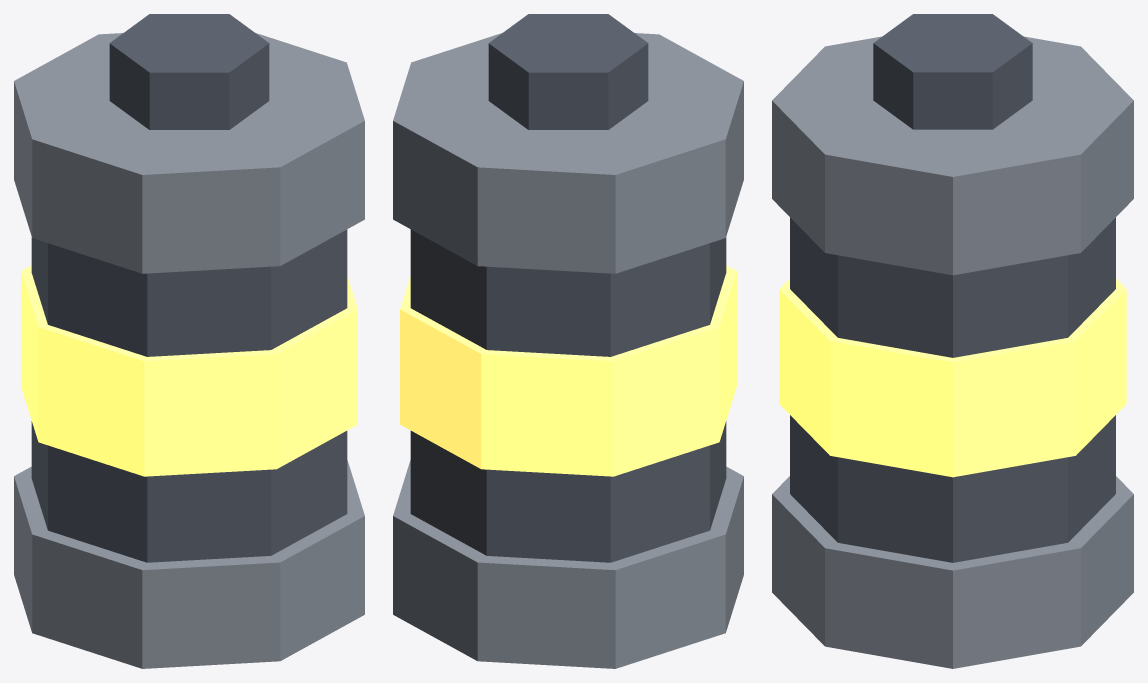
The model's file is weapon_grenade.glb.
3 views of the same model, side by side, from view 1: azimuth 30°, elevation 25°; view 2: azimuth 150°, elevation 25°; view 3: azimuth 270°, elevation 25° (orthographic).
Visible parts, largest first — view 1: Weapon_Grenade; view 2: Weapon_Grenade; view 3: Weapon_Grenade.
Boxes of the visible parts, x1,y1,x2,y2 form: Weapon_Grenade: (14,14,364,668); Weapon_Grenade: (393,14,743,668); Weapon_Grenade: (772,14,1133,668).
Size of the model in its own units: 0.1 by 0.1675 by 0.1.
